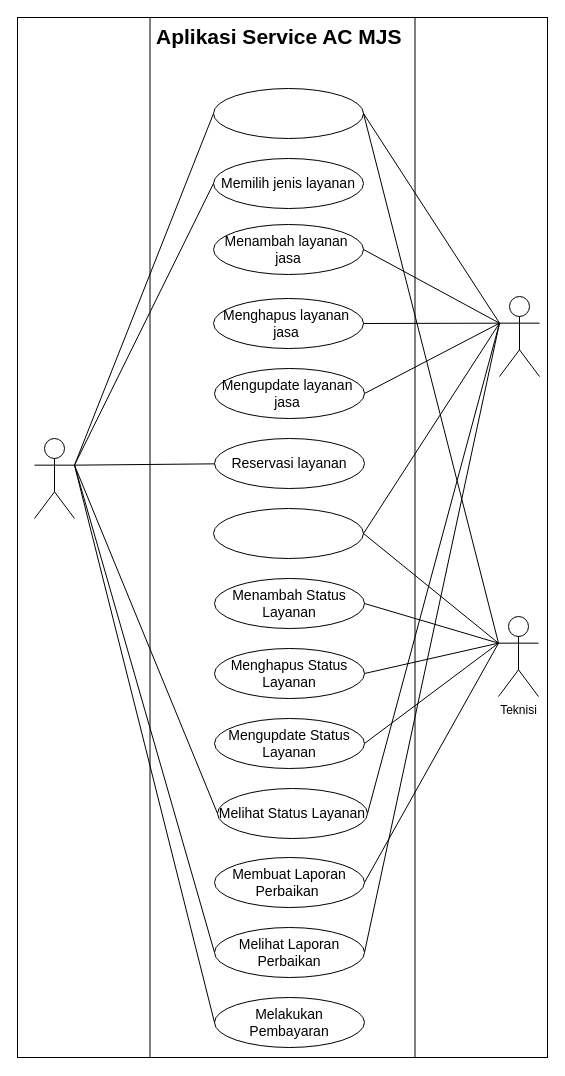
This 565x1076 diagram has some shape labels left out. Here are the shapes that lost their labels. From the top down, the centre of each, then its label:
At (288,113): "Login".
At (519,336): "Admin".
At (54,478): "Customer".
At (288,533): "Melihat Pesanan".
